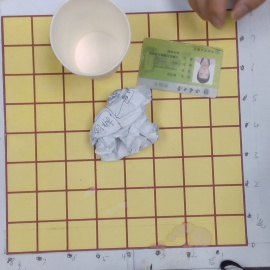card: (139, 36, 223, 98)
cup: (51, 2, 136, 87)
